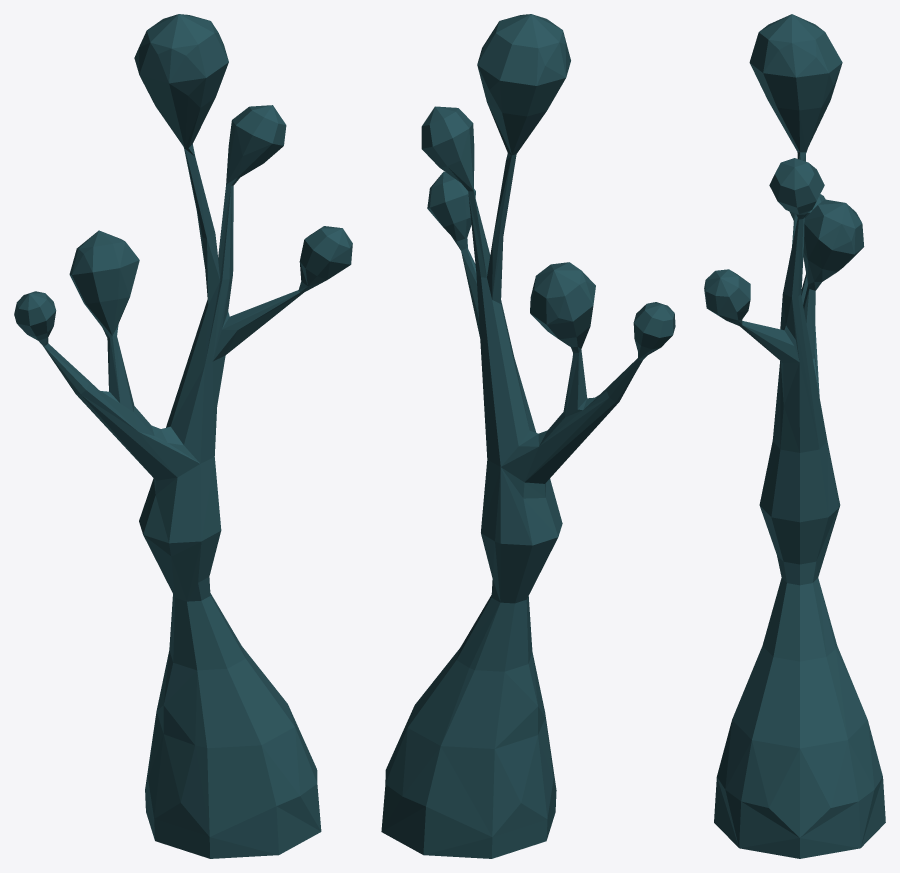
Rendered from Tree02.FBX.
The picture shows the model from 3 angles, left to right: view 1: azimuth 30°, elevation 25°; view 2: azimuth 150°, elevation 25°; view 3: azimuth 270°, elevation 25°; orthographic projection. The views are drawn at different scales.
Parts seen in each view (by area): view 1: Cylinder001, Object001; view 2: Cylinder001, Object001; view 3: Cylinder001, Object001.
Boxes of the visible parts, bbox=[...] form: Cylinder001: bbox=[43, 144, 321, 858]; Object001: bbox=[14, 14, 352, 346]; Cylinder001: bbox=[381, 153, 642, 858]; Object001: bbox=[421, 14, 675, 360]; Cylinder001: bbox=[714, 152, 885, 858]; Object001: bbox=[704, 14, 864, 325].
Size of the model in its own units: 28.18 by 77.93 by 16.14.
